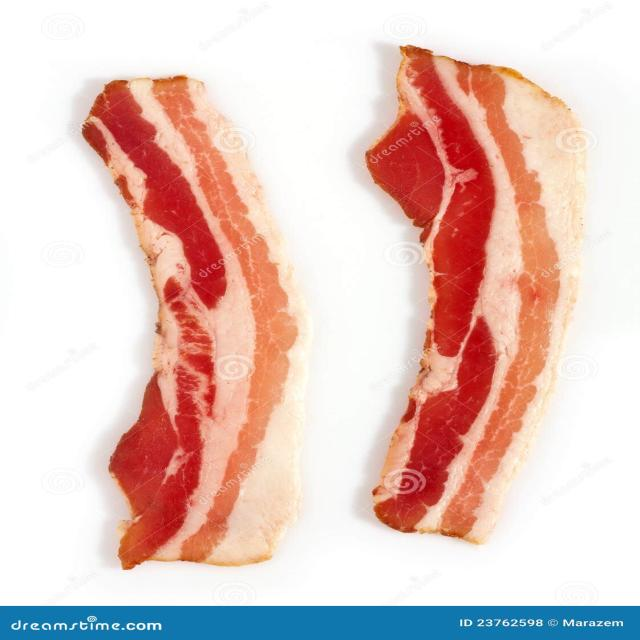Bacon: (367, 46, 589, 544), (83, 76, 307, 569)
